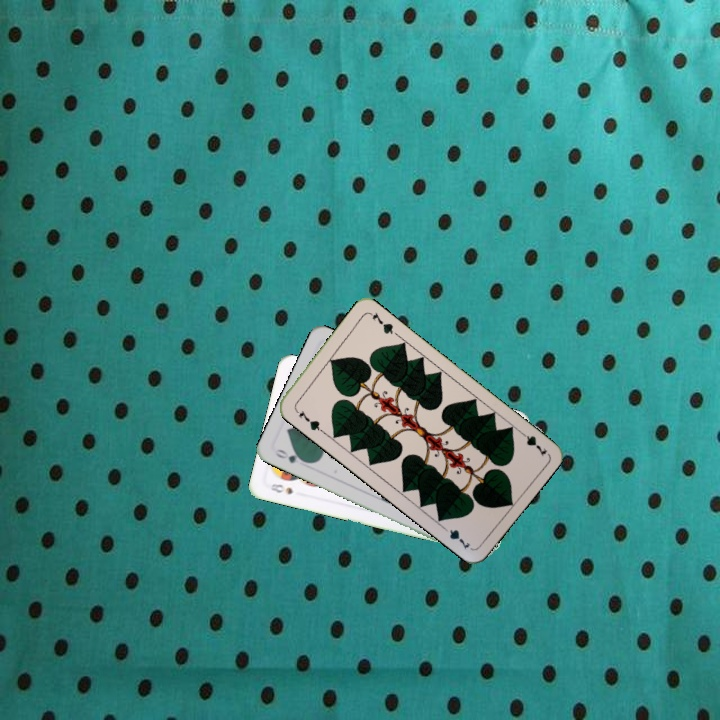G7: (514, 426, 549, 459), (291, 405, 325, 435)
GO: (271, 445, 310, 466)
S8: (263, 479, 295, 497)
